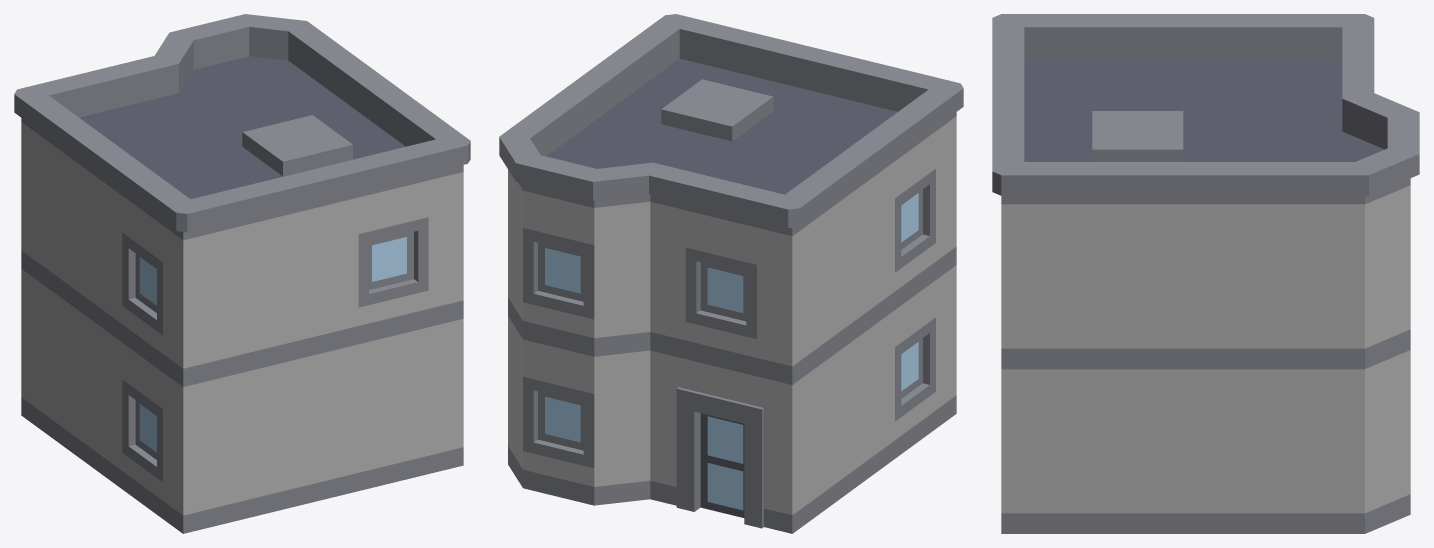
The model's file is bld_house.fbx.
The picture shows the model from 3 angles, left to right: view 1: azimuth 30°, elevation 25°; view 2: azimuth 150°, elevation 25°; view 3: azimuth 270°, elevation 25°; orthographic projection. The views are drawn at different scales.
Parts seen in each view (by area): view 1: small_buildingB; view 2: small_buildingB; view 3: small_buildingB.
Boxes of the visible parts, x1,y1,x2,y2 form: small_buildingB: [14, 14, 470, 533]; small_buildingB: [499, 14, 963, 533]; small_buildingB: [992, 14, 1419, 533].
Size of the model in its own units: 84 by 88 by 94.
